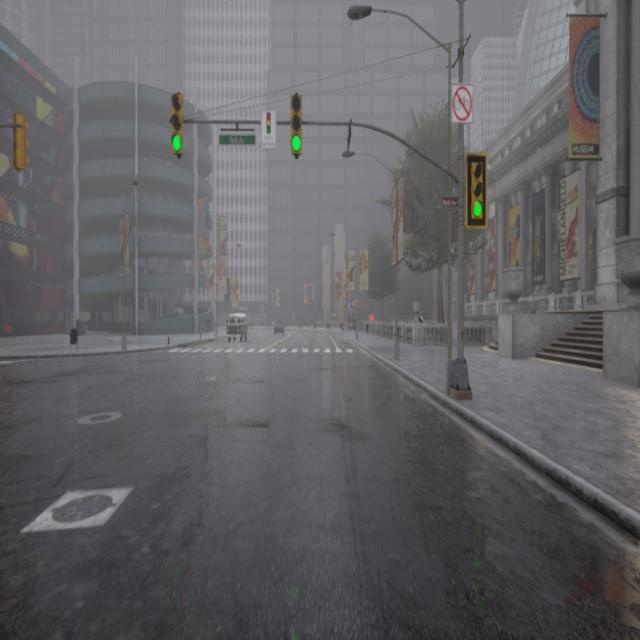bien_chi_dan: (462, 154, 492, 232), (286, 93, 308, 166), (169, 91, 189, 164), (448, 84, 473, 128), (471, 198, 484, 220), (292, 140, 302, 152), (172, 137, 180, 151)
